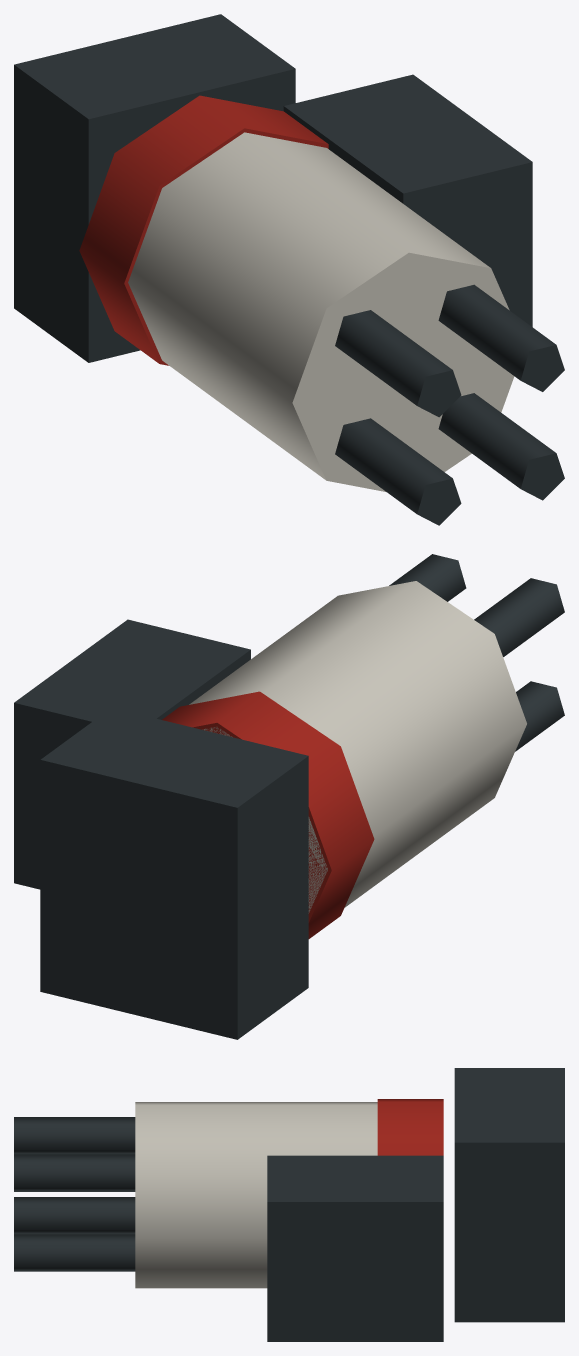
The picture shows the model from 3 angles, top to bottom: view 1: azimuth 30°, elevation 25°; view 2: azimuth 150°, elevation 25°; view 3: azimuth 270°, elevation 25°; orthographic projection. The views are drawn at different scales.
Parts seen in each view (by area): view 1: nanite-hand-gun-painted; view 2: nanite-hand-gun-painted; view 3: nanite-hand-gun-painted.
Part boxes in pixels (x1,y1,x2,y2): nanite-hand-gun-painted: (14, 14, 564, 525); nanite-hand-gun-painted: (14, 554, 564, 1039); nanite-hand-gun-painted: (14, 1068, 564, 1341).
Bounding box in the file's own units: 1.25 × 0.9006 × 2.42.
